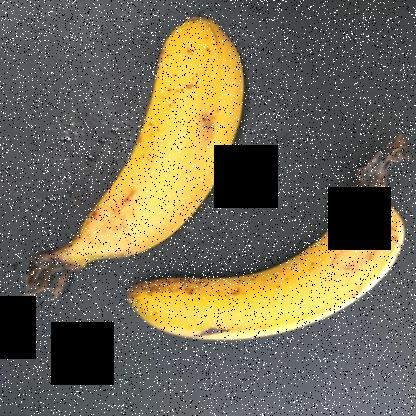ripe: (110, 168, 415, 355), (69, 1, 273, 256)
